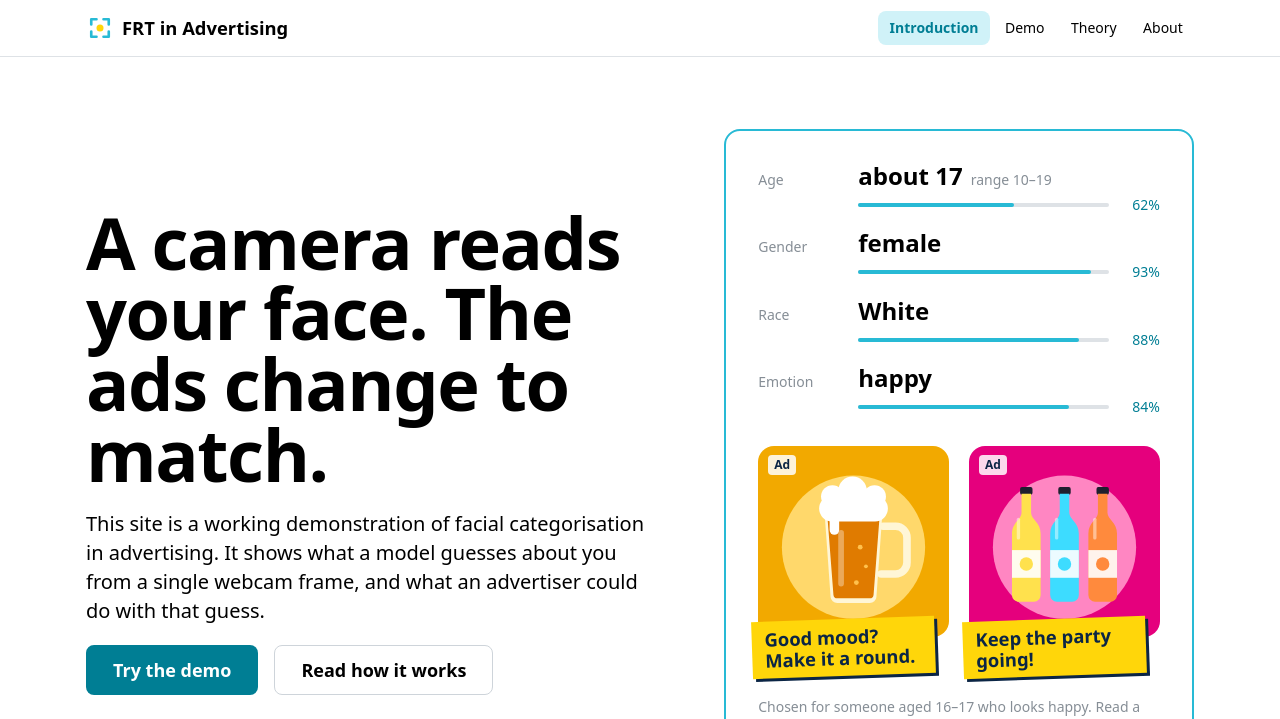
site shell › leads from the introduction and the theory into the demo
This screenshot has width=1280, height=719.
What coordinates should you click on to do the following:
click the link "Try the demo"
I would click on:
 (172, 670)
Its box is [86,645,258,695].
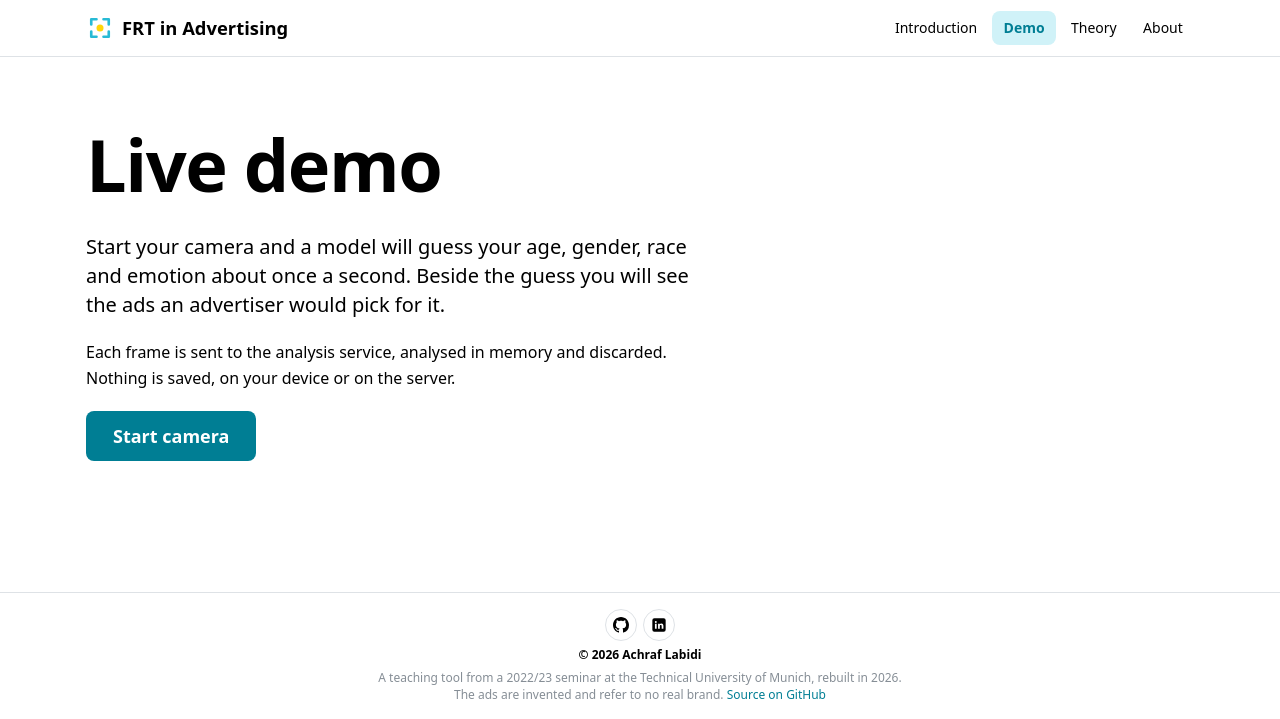
Expected: the heading "Live demo" is shown, [86,115,441,213]
